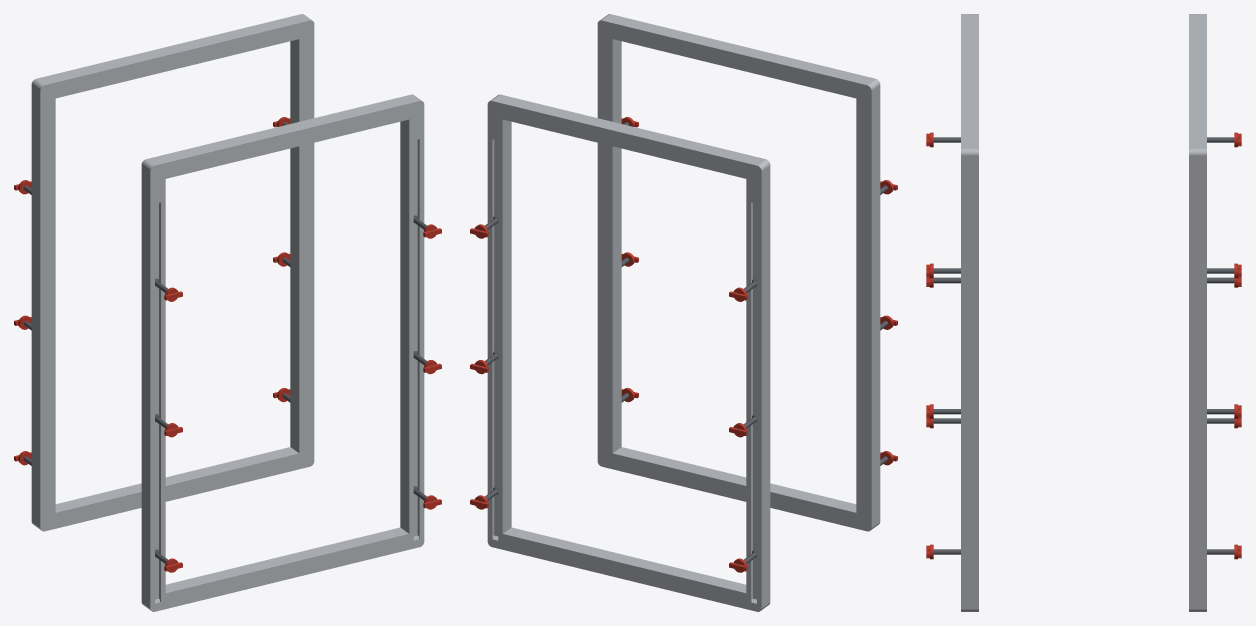
The model's file is c_suitcase.glb.
3 renders of one model, left to right at view 1: azimuth 30°, elevation 25°; view 2: azimuth 150°, elevation 25°; view 3: azimuth 270°, elevation 25°, orthographic. The views are drawn at different scales.
Visible parts, largest first — view 1: ring_front, ring_back; view 2: ring_back, ring_front; view 3: ring_front, ring_back.
Part boxes in pixels (x1,y1,x2,y2): ring_front: [141, 94, 424, 611]; ring_back: [31, 14, 314, 531]; ring_back: [487, 94, 770, 611]; ring_front: [597, 14, 880, 531]; ring_front: [961, 14, 978, 611]; ring_back: [1189, 14, 1206, 611].
Bounding box in the file's own units: 0.362 × 0.56 × 0.346.
